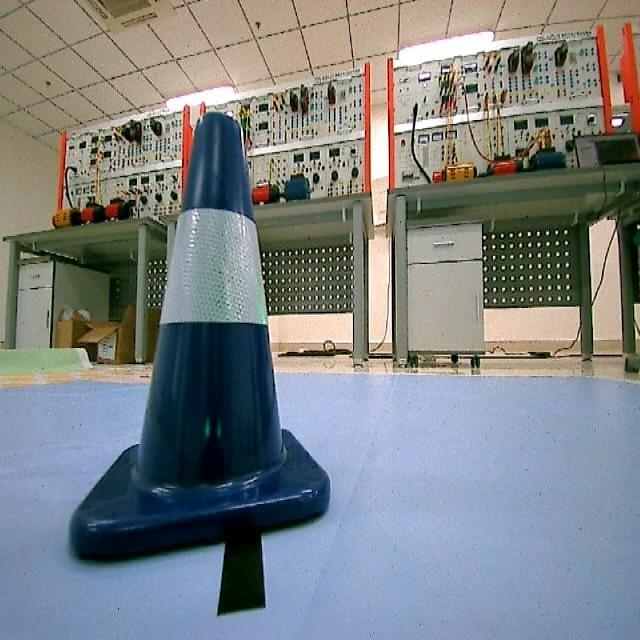obstacle: (62, 112, 344, 572)
